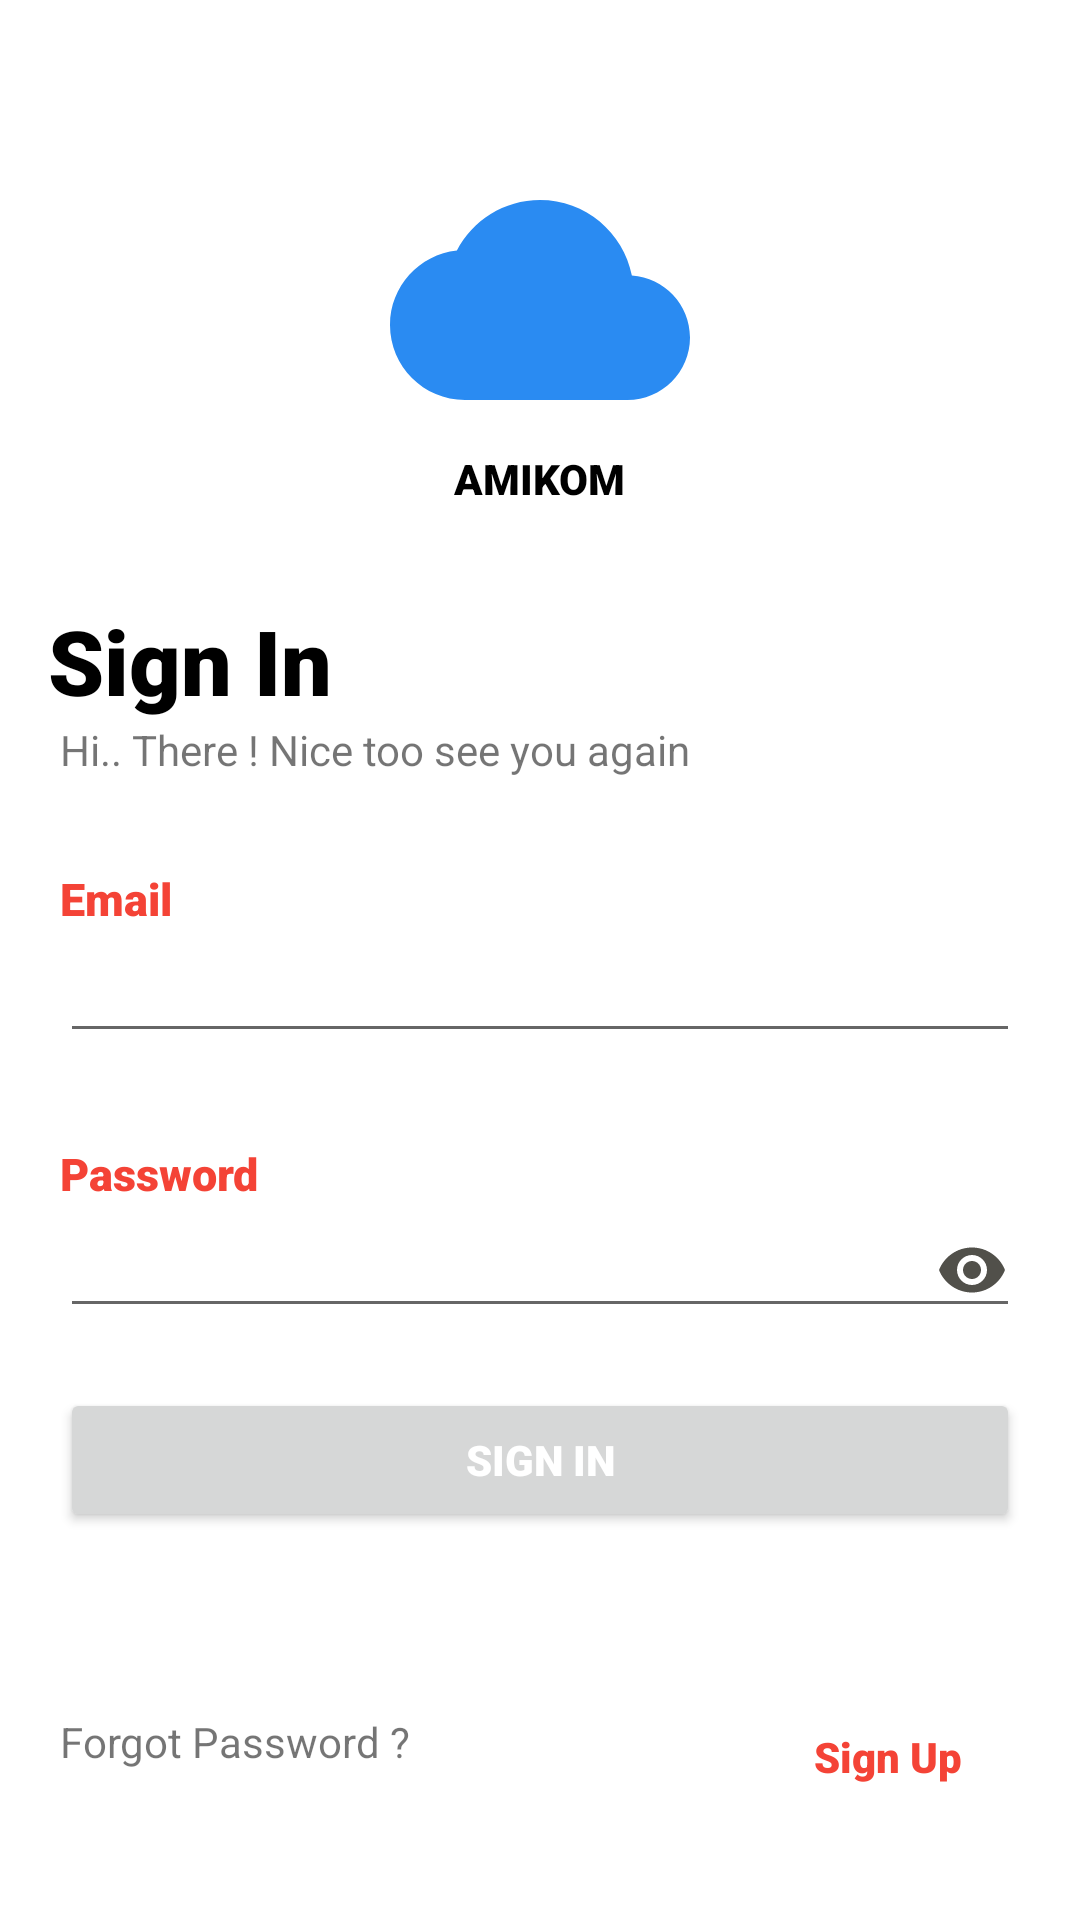

Point at icon controls on the screen. Image size 1080 x 1920, points as (x,y).
cloud: (540,300)
